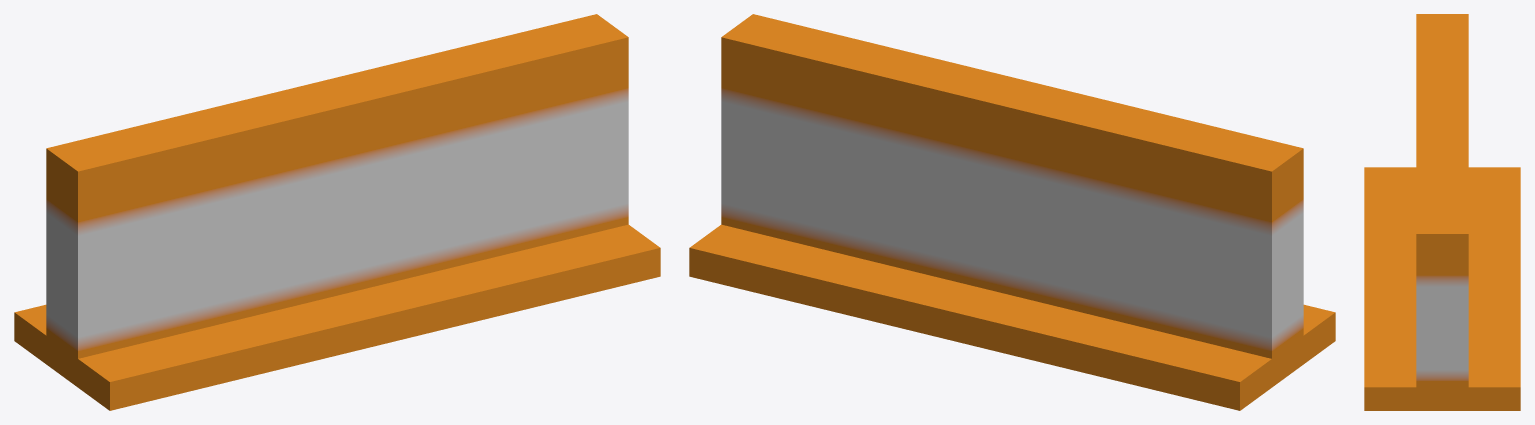
File: ObstacleTriangle.fbx
The picture shows the model from 3 angles, left to right: view 1: azimuth 30°, elevation 25°; view 2: azimuth 150°, elevation 25°; view 3: azimuth 270°, elevation 25°; orthographic projection. The views are drawn at different scales.
Parts seen in each view (by area): view 1: Triangle; view 2: Triangle; view 3: Triangle.
Boxes of the visible parts, x1,y1,x2,y2 form: Triangle: (14,14,660,410); Triangle: (689,14,1335,410); Triangle: (1364,14,1520,410).
Size of the model in its own units: 40 by 15 by 12.
1 material, 1 textured.
